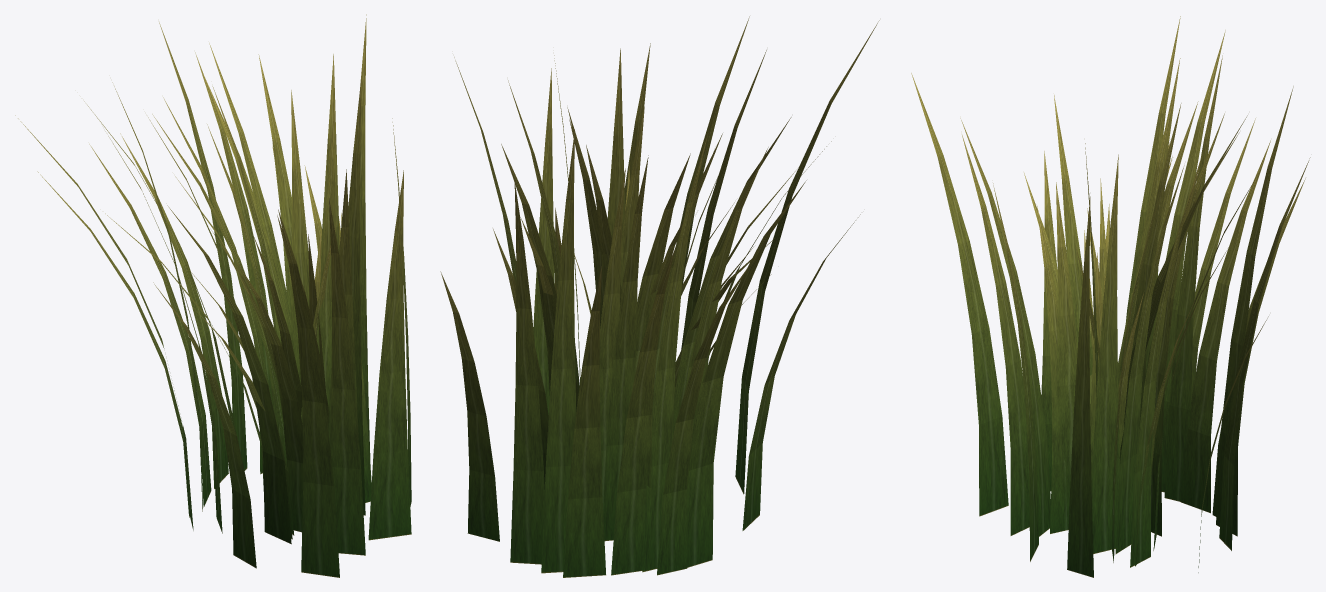
Rendered from Reed_Clump_A.glb.
The picture shows the model from 3 angles, left to right: view 1: azimuth 30°, elevation 25°; view 2: azimuth 150°, elevation 25°; view 3: azimuth 270°, elevation 25°; orthographic projection. The views are drawn at different scales.
Visible parts, largest first — view 1: Reed_Clump_A__Blades; view 2: Reed_Clump_A__Blades; view 3: Reed_Clump_A__Blades.
Part boxes in pixels (x1,y1,x2,y2): Reed_Clump_A__Blades: [15, 14, 411, 577]; Reed_Clump_A__Blades: [440, 16, 879, 577]; Reed_Clump_A__Blades: [911, 16, 1310, 577].
Size of the model in its own units: 5.53 by 6.99 by 5.93.
1 material, 1 textured.
